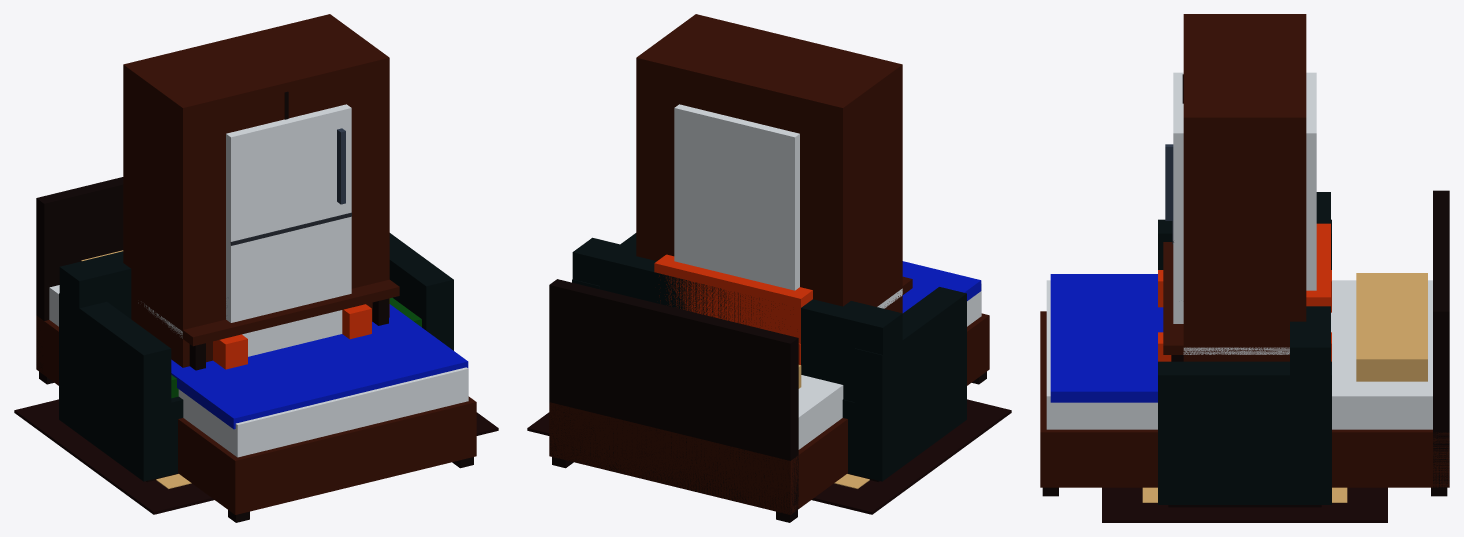
The model's file is home_kit.glb.
The picture shows the model from 3 angles, left to right: view 1: azimuth 30°, elevation 25°; view 2: azimuth 150°, elevation 25°; view 3: azimuth 270°, elevation 25°; orthographic projection. The views are drawn at different scales.
Parts seen in each view (by area): view 1: SM_HM_Bed, SM_HM_Wardrobe, SM_HM_Fridge, SM_HM_Sofa, SM_HM_Rug, SM_HM_Table, SM_HM_Armchair; view 2: SM_HM_Bed, SM_HM_Wardrobe, SM_HM_Sofa, SM_HM_Fridge, SM_HM_Armchair, SM_HM_Rug; view 3: SM_HM_Bed, SM_HM_Wardrobe, SM_HM_Sofa, SM_HM_Rug, SM_HM_Fridge, SM_HM_Table, SM_HM_Armchair, SM_HM_Desk.
Part boxes in pixels (box(x1,y1,x2,y2)): SM_HM_Bed: box(36, 177, 476, 522); SM_HM_Wardrobe: box(123, 14, 389, 367); SM_HM_Fridge: box(226, 104, 351, 356); SM_HM_Sofa: box(59, 233, 453, 481); SM_HM_Rug: box(14, 399, 498, 514); SM_HM_Table: box(131, 279, 399, 370); SM_HM_Armchair: box(213, 304, 371, 369); SM_HM_Bed: box(549, 261, 989, 522); SM_HM_Wardrobe: box(636, 14, 902, 313); SM_HM_Sofa: box(572, 233, 966, 481); SM_HM_Fridge: box(674, 104, 799, 290); SM_HM_Armchair: box(654, 254, 812, 364); SM_HM_Rug: box(527, 399, 1011, 514); SM_HM_Bed: box(1040, 190, 1449, 496); SM_HM_Wardrobe: box(1182, 14, 1306, 361); SM_HM_Sofa: box(1158, 192, 1331, 507); SM_HM_Rug: box(1102, 487, 1387, 522); SM_HM_Fridge: box(1165, 72, 1316, 323); SM_HM_Table: box(1163, 242, 1289, 361); SM_HM_Armchair: box(1158, 223, 1331, 361); SM_HM_Desk: box(1183, 347, 1289, 354).
Size of the model in its own units: 2 by 2.22 by 2.
16 materials, 16 textured.
